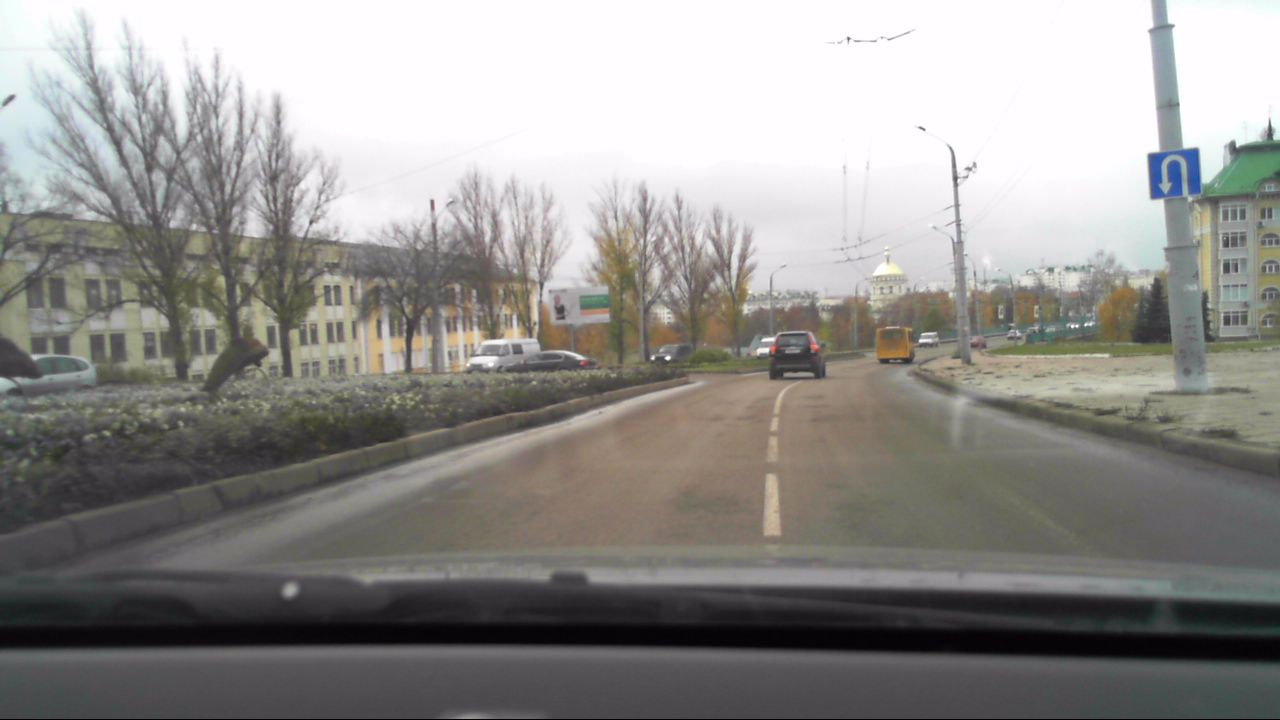U-turn: (1149, 152, 1199, 197)
